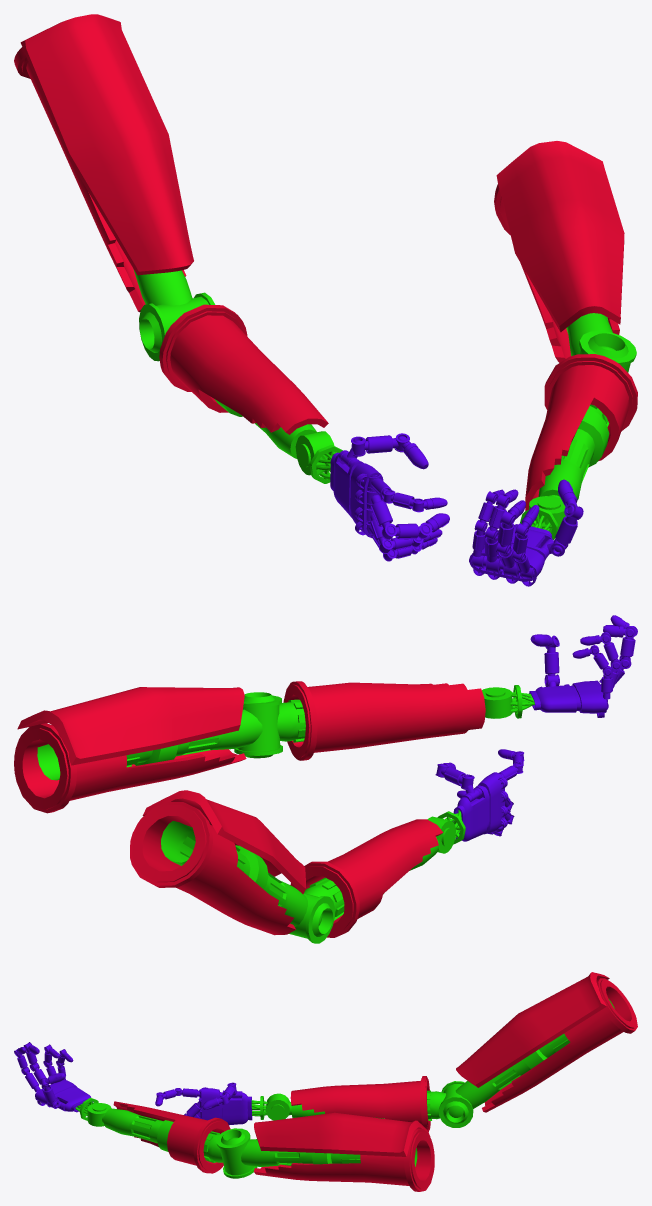
Rendered from HandsPPblend.fbx.
The picture shows the model from 3 angles, top to bottom: view 1: azimuth 30°, elevation 25°; view 2: azimuth 150°, elevation 25°; view 3: azimuth 270°, elevation 25°; orthographic projection. The views are drawn at different scales.
Parts seen in each view (by area): view 1: RH1, LH1, RH2, LH2, RH3, LH3; view 2: LH1, RH1, LH2, RH2, LH3, RH3, LF12; view 3: RH1, LH1, RH2, LH2, RH3, LH3.
Boxes of the visible parts, box(x1,y1,x2,y2) form: RH1: box(14, 14, 193, 312); LH1: box(494, 141, 624, 362); RH2: box(139, 292, 328, 458); LH2: box(525, 330, 637, 510); RH3: box(296, 431, 383, 537); LH3: box(469, 496, 565, 586); LH1: box(14, 687, 262, 813); RH1: box(130, 790, 307, 935); LH2: box(234, 681, 485, 760); RH2: box(289, 819, 443, 943); LH3: box(482, 680, 608, 718); RH3: box(427, 772, 508, 853); LF12: box(544, 647, 559, 686); RH1: box(455, 972, 637, 1112); LH1: box(241, 1112, 434, 1191); RH2: box(288, 1076, 473, 1131); LH2: box(102, 1101, 257, 1178); RH3: box(198, 1087, 289, 1125); LH3: box(35, 1080, 111, 1126).
Size of the model in its own units: 48.21 by 31.73 by 103.
